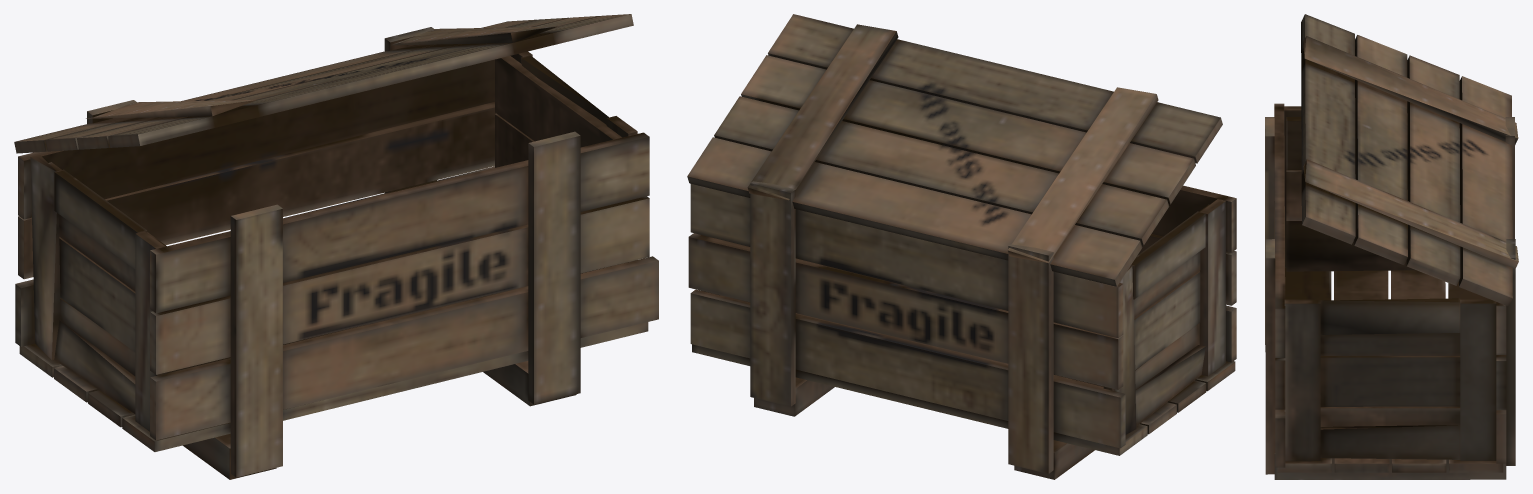
The model's file is Wooden box 2,5.fbx.
3 views of the same model, side by side, from view 1: azimuth 30°, elevation 25°; view 2: azimuth 150°, elevation 25°; view 3: azimuth 270°, elevation 25° (orthographic). The views are drawn at different scales.
Parts seen in each view (by area): view 1: Wooden_box005_LOD0; view 2: Wooden_box005_LOD0; view 3: Wooden_box005_LOD0.
Part boxes in pixels (bbox=[...]): Wooden_box005_LOD0: bbox=[14, 14, 658, 479]; Wooden_box005_LOD0: bbox=[687, 14, 1236, 479]; Wooden_box005_LOD0: bbox=[1265, 14, 1518, 479].
Size of what is drawn, in the model's own units: 102 by 69.31 by 52.8.
